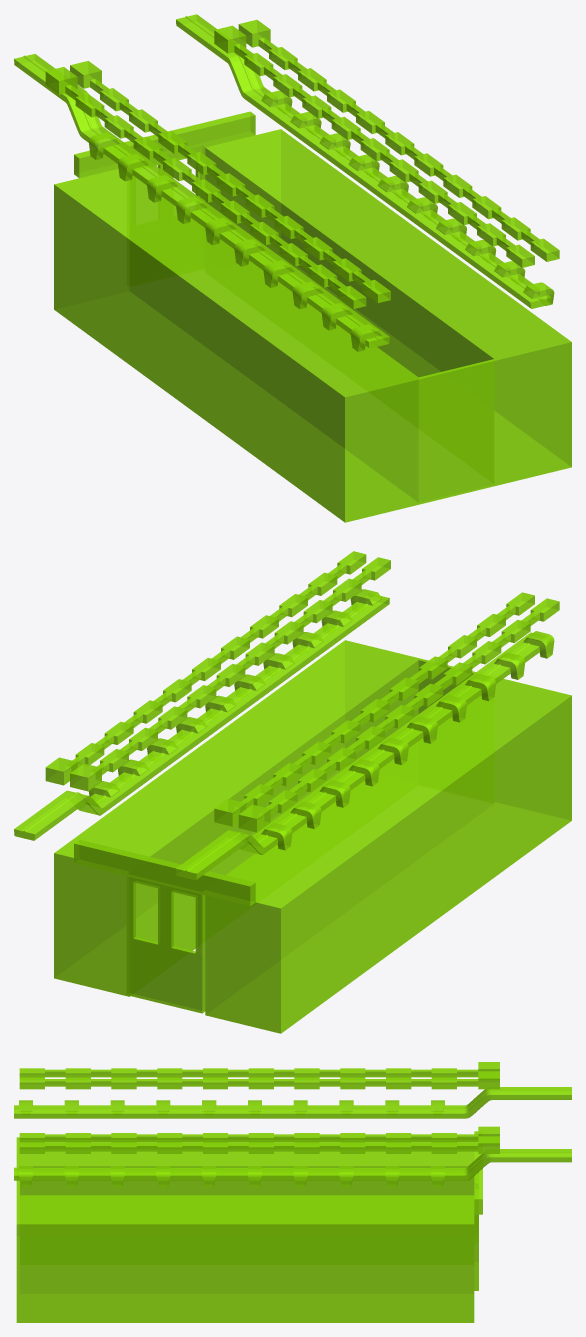
The model's file is aisle2.FBX.
3 renders of one model, top to bottom at view 1: azimuth 30°, elevation 25°; view 2: azimuth 150°, elevation 25°; view 3: azimuth 270°, elevation 25°, orthographic. The views are drawn at different scales.
Parts seen in each view (by area): view 1: Object001, Object002; view 2: Object001, Object002; view 3: Object001, Object002.
Part boxes in pixels (x1,y1,x2,y2): Object001: [45, 19, 571, 522]; Object002: [14, 14, 554, 351]; Object001: [45, 551, 571, 1033]; Object002: [14, 589, 554, 880]; Object001: [16, 1062, 499, 1322]; Object002: [14, 1087, 571, 1187].
Bounding box in the file's own units: 48 × 45.44 × 130.
